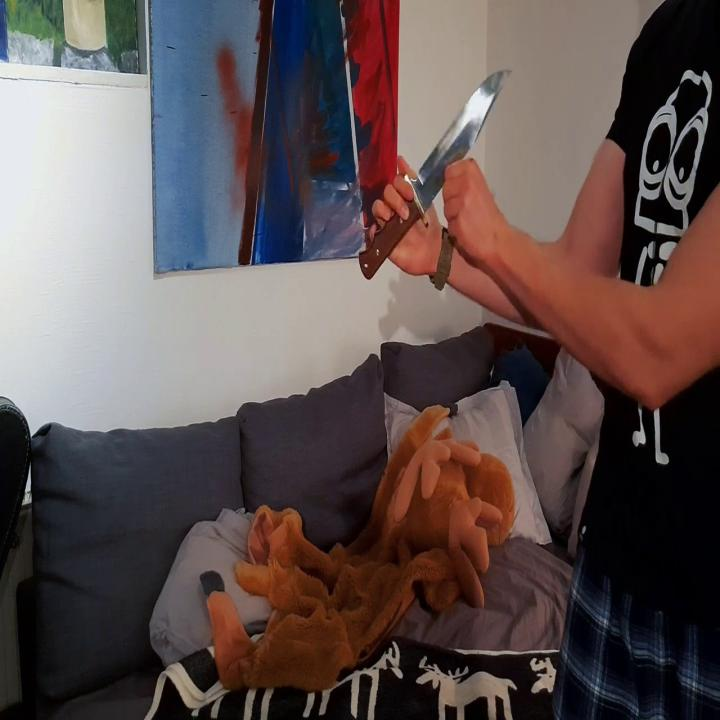knife: (354, 60, 516, 285)
